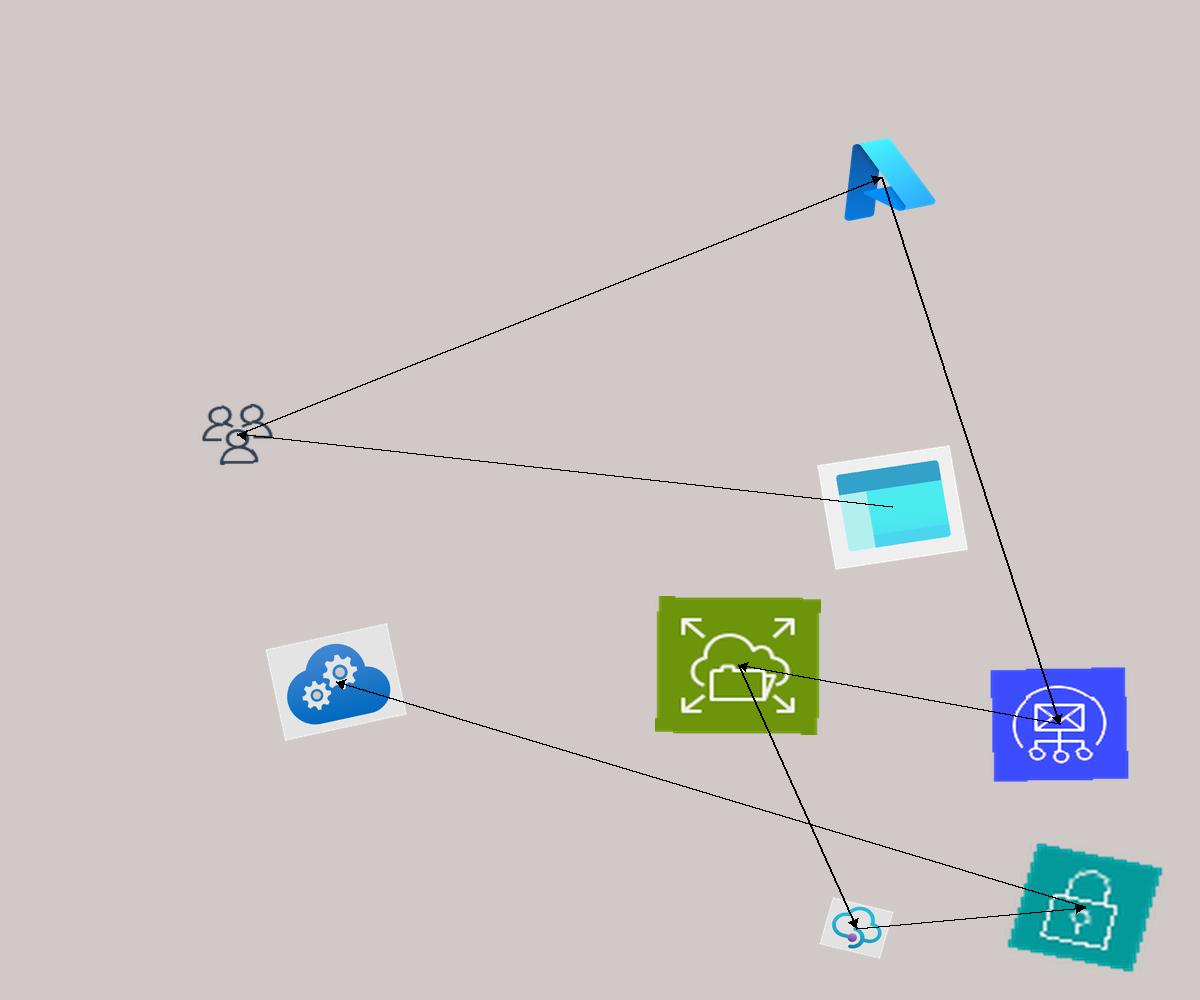AWS-EFS: (655, 596, 821, 735)
AWS-Private-subnet: (1005, 841, 1165, 974)
AWS-Res_Users: (196, 400, 279, 469)
AWS-Simple-Email-Service: (989, 666, 1130, 783)
Azure_api_gateway: (819, 897, 894, 959)
Azure_cloud_services: (265, 623, 407, 741)
Azure_management-portal: (817, 445, 968, 570)
Azure_services: (820, 126, 942, 228)
